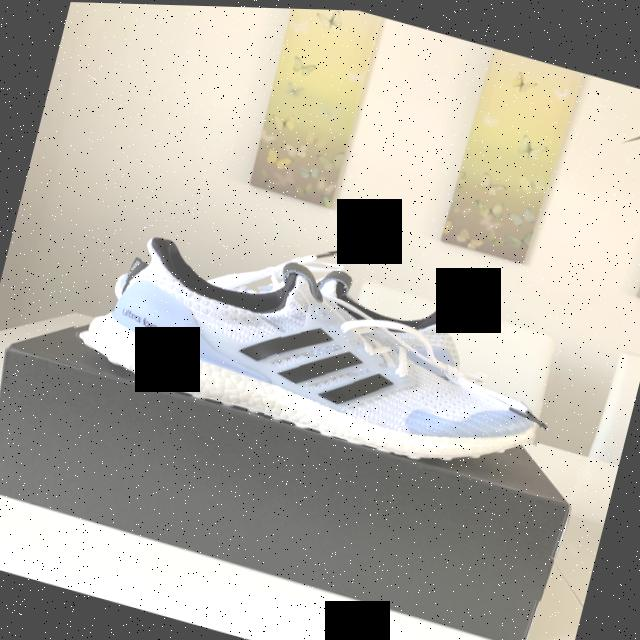shoe: (61, 186, 568, 488)
